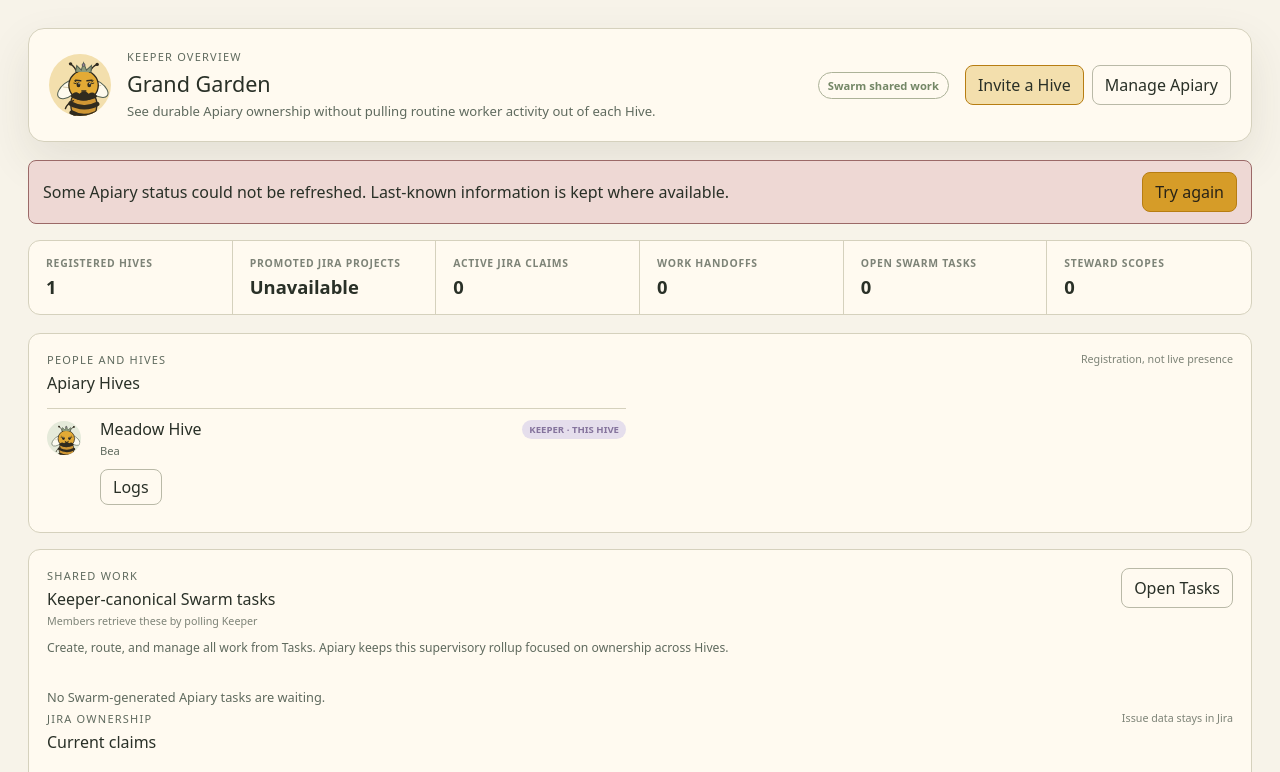
Test case: one failed source keeps other sections useful and labels retained data until recovery
Expected: the message is shown, [28,160,1252,224]
Expected: the list named "Keeper Apiary Hives" shows "Meadow Hive", [100,418,202,440]
Click the button "Try again": (1190, 192) [1142,172,1237,212]
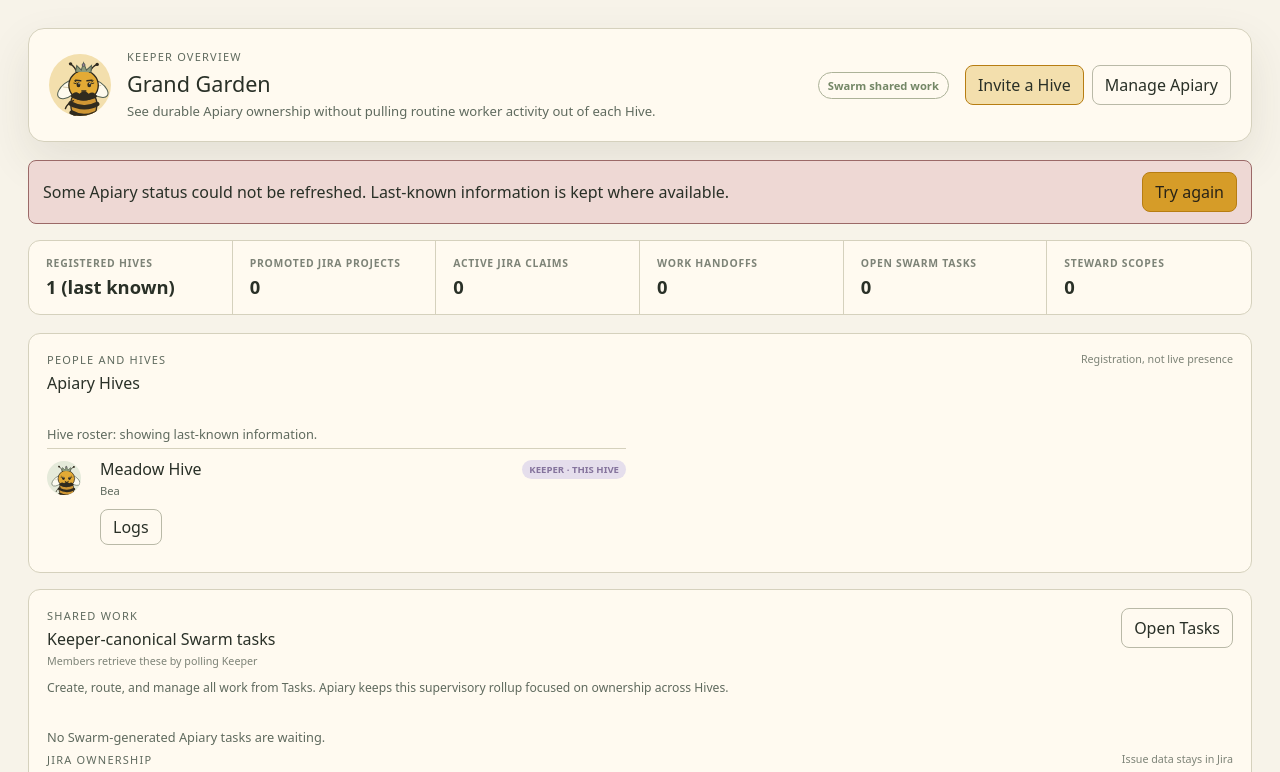
Expected: the list named "Keeper Apiary Hives" shows "Meadow Hive", [100,458,202,480]
Result: the text "Hive roster: showing last-known information." is shown at [47,425,317,443]
Click the button "Try again": (1190, 192) [1142,172,1237,212]
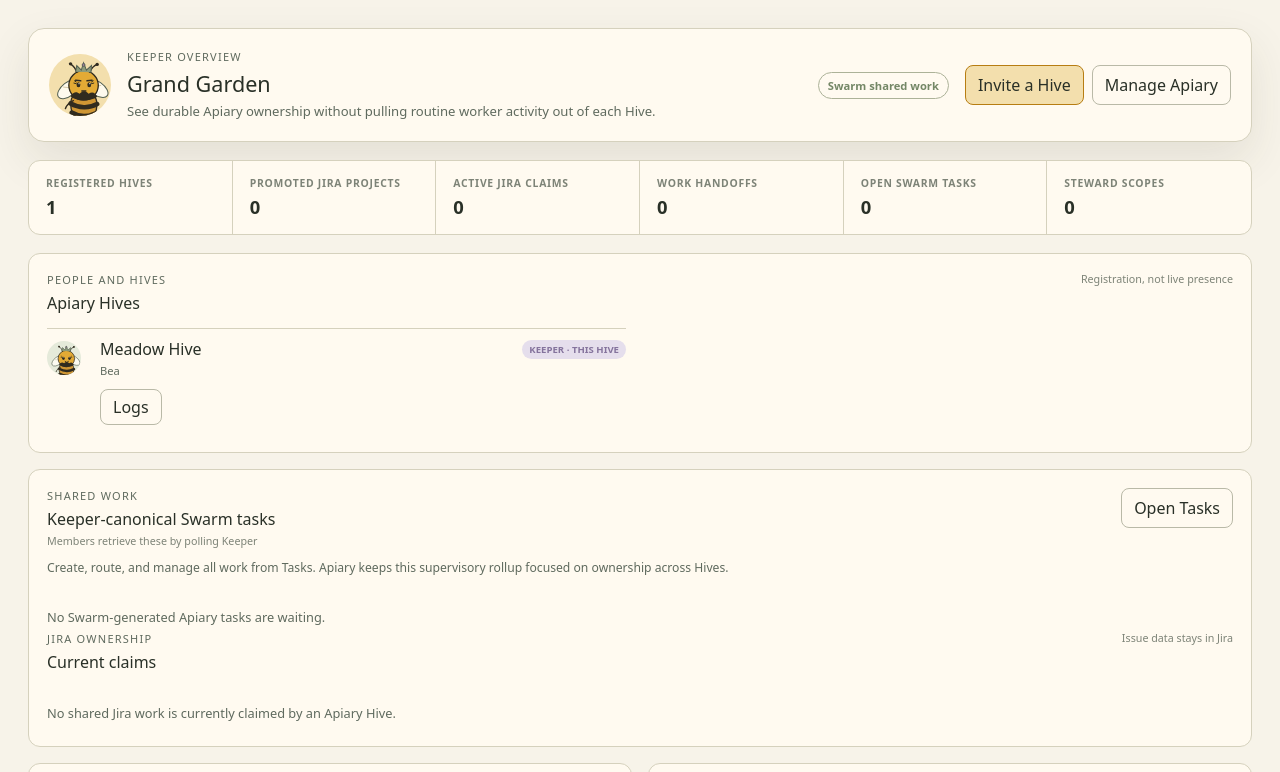
Result: the text "Hive roster: showing last-known information." is gone
